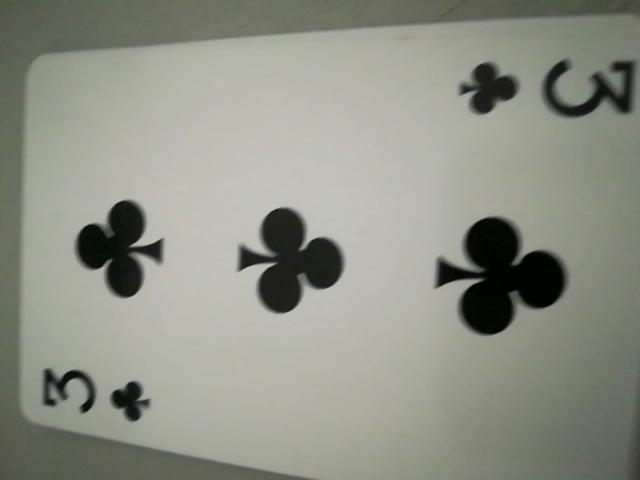mh 3: (454, 45, 640, 134), (27, 360, 158, 432)
